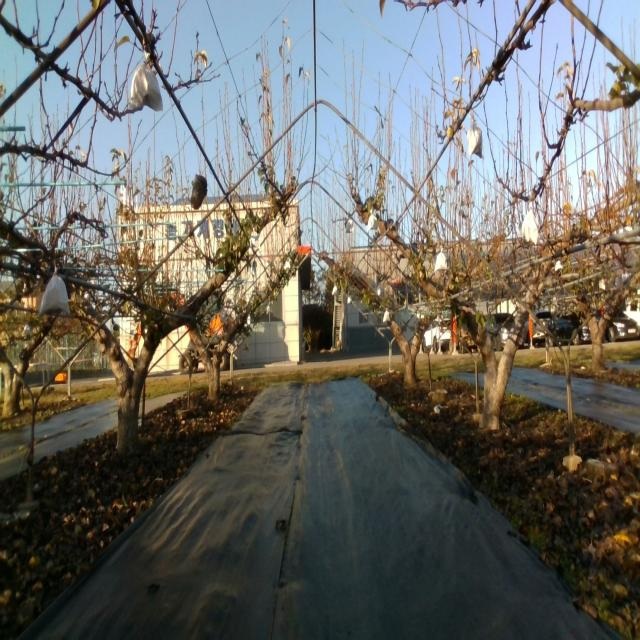pearbags: (128, 50, 164, 113), (37, 268, 73, 319), (466, 113, 483, 160), (520, 210, 538, 248), (434, 247, 448, 271), (250, 228, 261, 250)
